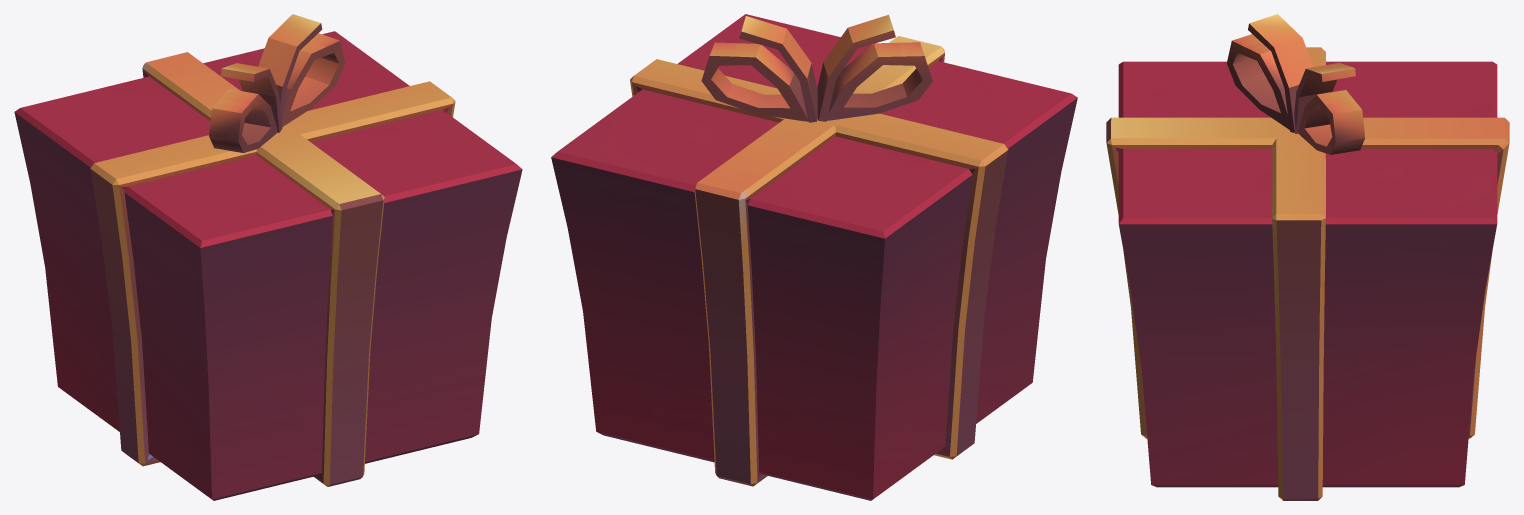
The model's file is package_Red.fbx.
The picture shows the model from 3 angles, left to right: view 1: azimuth 30°, elevation 25°; view 2: azimuth 150°, elevation 25°; view 3: azimuth 270°, elevation 25°; orthographic projection. The views are drawn at different scales.
Parts seen in each view (by area): view 1: Package_Red; view 2: Package_Red; view 3: Package_Red.
Part boxes in pixels (x1=…): Package_Red: x1=14, y1=14, x2=522, y2=500; Package_Red: x1=551, y1=14, x2=1077, y2=500; Package_Red: x1=1106, y1=14, x2=1509, y2=500.
Bounding box in the file's own units: 0.3221 × 0.3419 × 0.3221.
